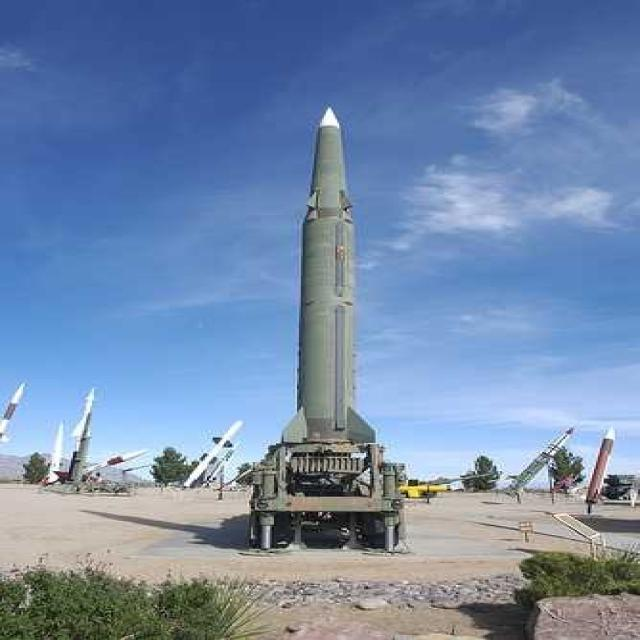missile: (177, 415, 244, 495), (580, 426, 617, 511), (74, 390, 108, 445)
